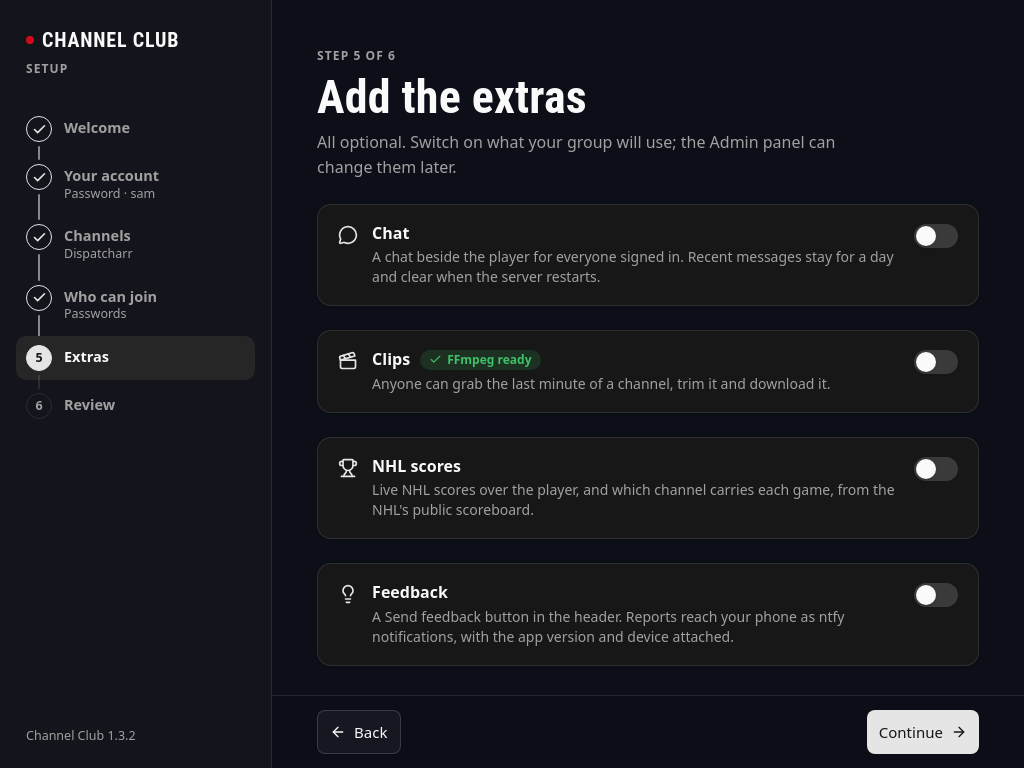
Test case: SetupWizard: Open Channel Club › opens the step whose save the server refused, with why
This screenshot has width=1024, height=768.
Click the 1st switch named "Chat".
click(936, 236)  # box [914,224,958,248]
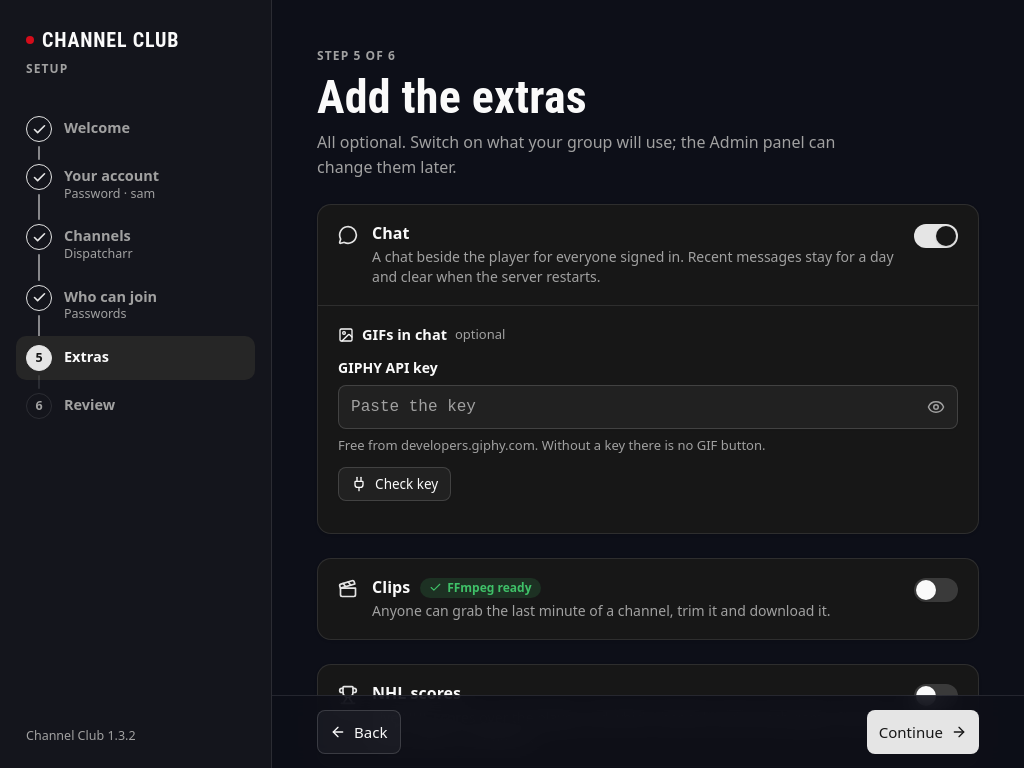
Click the button "6 Review".
click(136, 406)  # box [16,384,255,428]
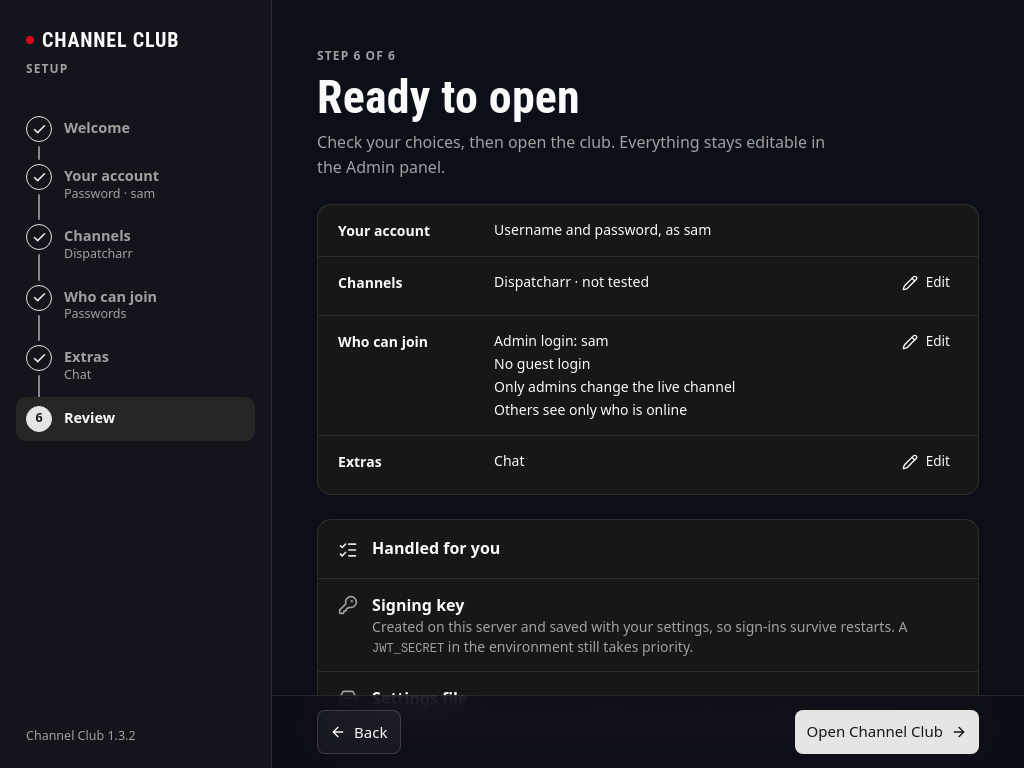
Expected: the heading "Handled for you" is shown, [372,538,500,559]
Click the button "Open Channel Club".
click(887, 732)  # box [794,710,979,754]
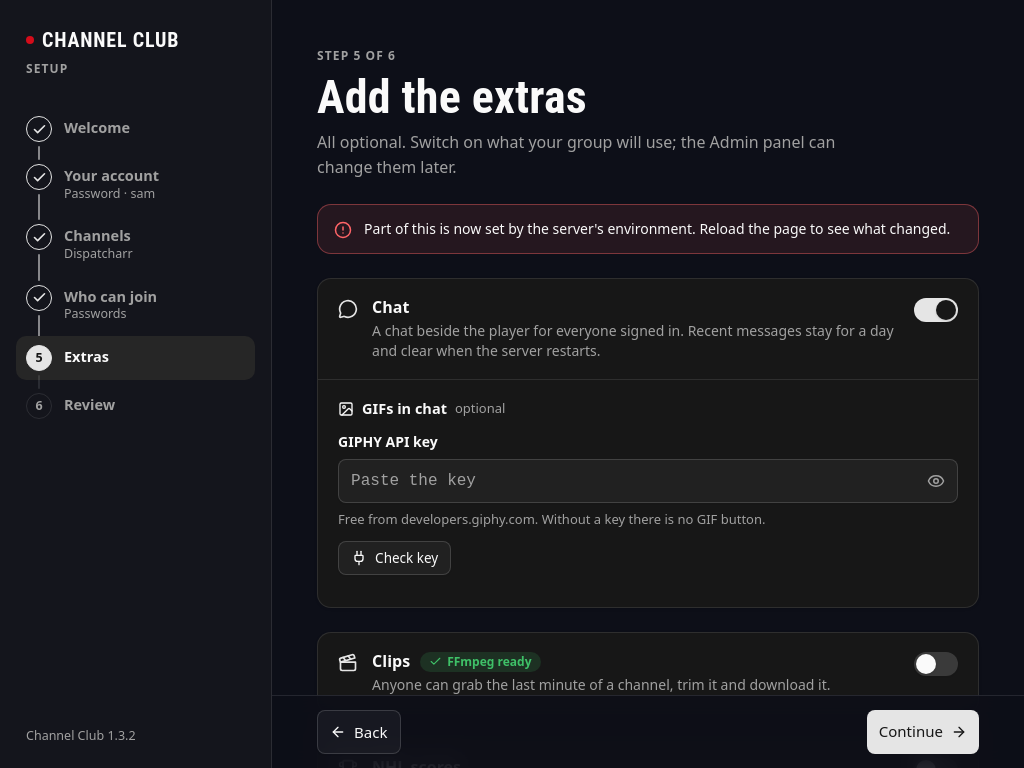
Expected: the heading "Add the extras" is shown, [317,70,587,124]
Expected: the message shows "Part of this is now set by the server's environment.", [364,219,950,238]
